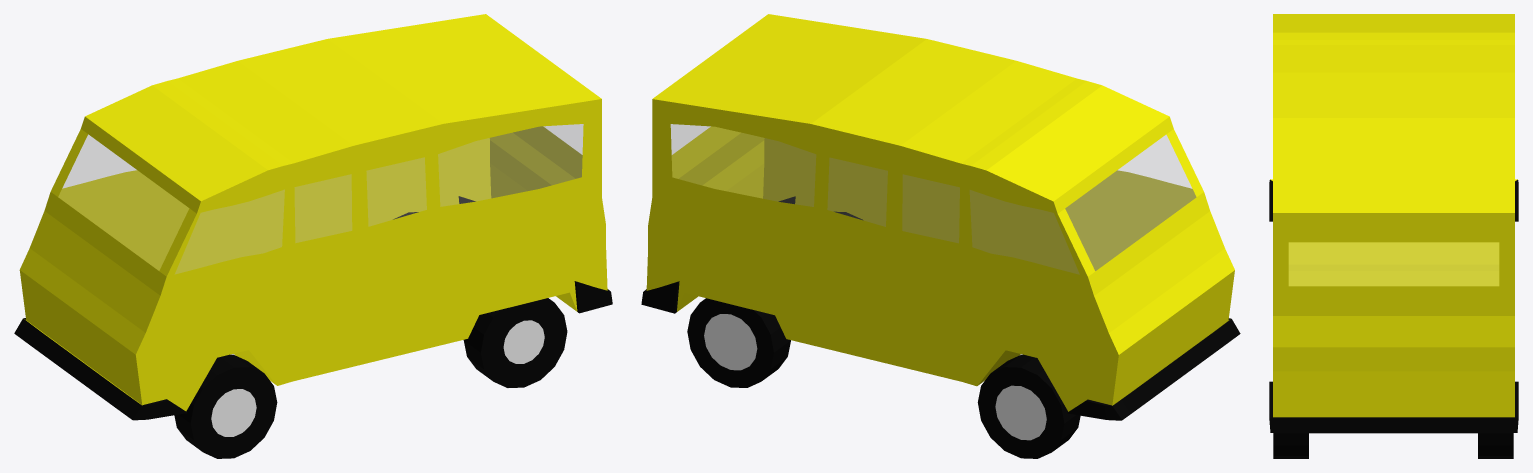
Rendered from Bus.fbx.
3 views of the same model, side by side, from view 1: azimuth 30°, elevation 25°; view 2: azimuth 150°, elevation 25°; view 3: azimuth 270°, elevation 25° (orthographic). The views are drawn at different scales.
Parts seen in each view (by area): view 1: Bus; view 2: Bus; view 3: Bus.
Part boxes in pixels (x1,y1,x2,y2): Bus: [14, 14, 612, 458]; Bus: [641, 14, 1240, 458]; Bus: [1269, 14, 1518, 458].
Size of the model in its own units: 152 by 85.42 by 65.5.
